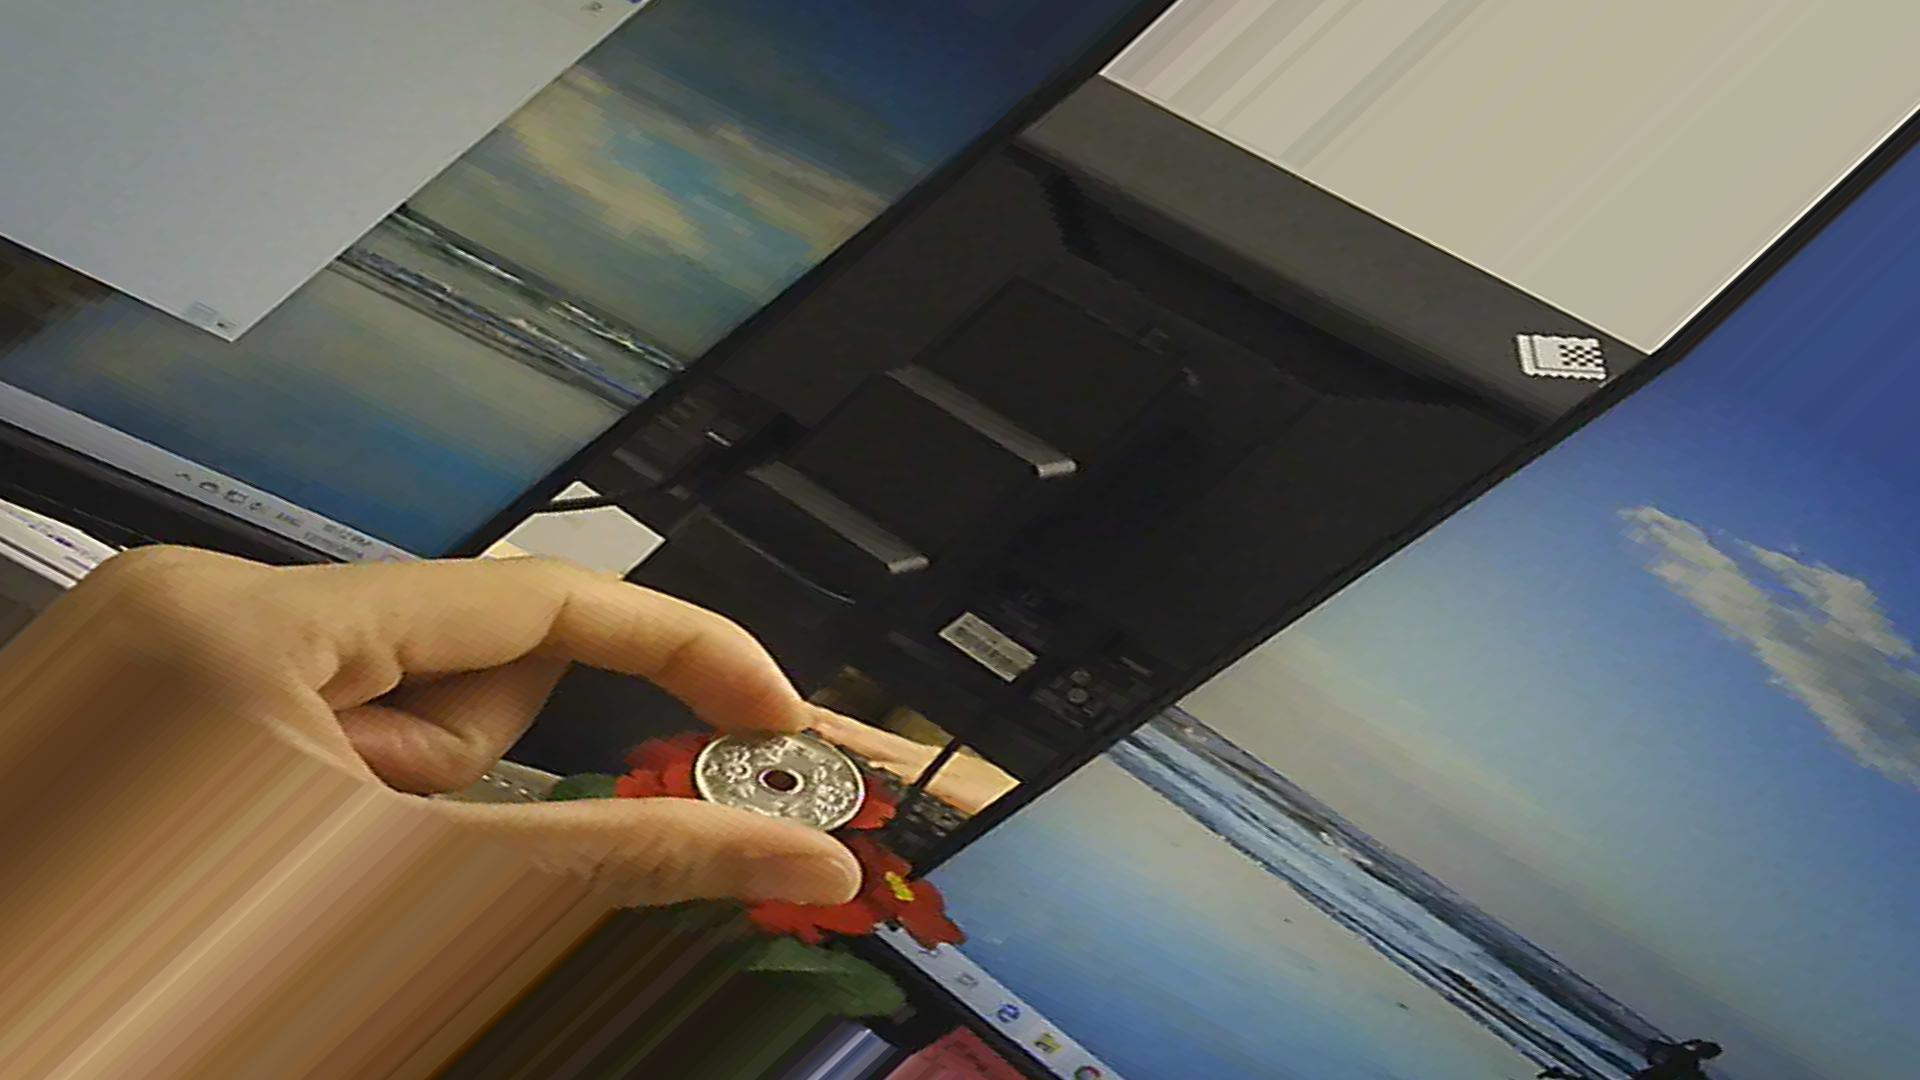50 Yen: (691, 716, 858, 843)
